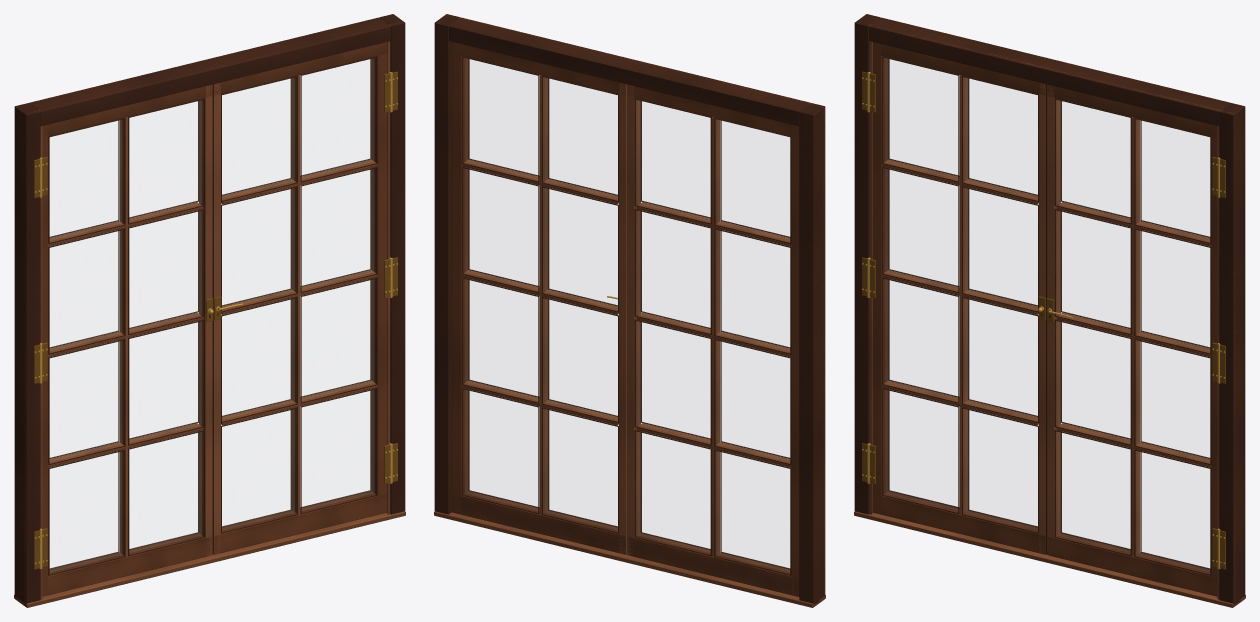
File: asset.glb
3 views of the same model, side by side, from view 1: azimuth 30°, elevation 25°; view 2: azimuth 150°, elevation 25°; view 3: azimuth 330°, elevation 25° (orthographic).
Parts seen in each view (by area): view 1: MaterialBatch_French_door_clear_household_glazing, MaterialBatch_French_door_oak_end-grain_and_reveals, MaterialBatch_French_door_oak_board_variation, MaterialBatch_French_door_quarter-sawn_oak, MaterialBatch_French_door_warm_aged_brass_hardware, MaterialBatch_French_door_bright_brass_highlights; view 2: MaterialBatch_French_door_clear_household_glazing, MaterialBatch_French_door_oak_end-grain_and_reveals, MaterialBatch_French_door_oak_board_variation, MaterialBatch_French_door_quarter-sawn_oak; view 3: MaterialBatch_French_door_clear_household_glazing, MaterialBatch_French_door_oak_end-grain_and_reveals, MaterialBatch_French_door_oak_board_variation, MaterialBatch_French_door_quarter-sawn_oak, MaterialBatch_French_door_warm_aged_brass_hardware, MaterialBatch_French_door_bright_brass_highlights.
Part boxes in pixels (<box>): MaterialBatch_French_door_clear_household_glazing: <box>50,59,373,571</box>; MaterialBatch_French_door_oak_end-grain_and_reveals: <box>14,14,405,606</box>; MaterialBatch_French_door_oak_board_variation: <box>14,41,405,607</box>; MaterialBatch_French_door_quarter-sawn_oak: <box>24,21,402,602</box>; MaterialBatch_French_door_warm_aged_brass_hardware: <box>34,71,397,569</box>; MaterialBatch_French_door_bright_brass_highlights: <box>34,72,397,569</box>; MaterialBatch_French_door_clear_household_glazing: <box>466,59,789,571</box>; MaterialBatch_French_door_oak_end-grain_and_reveals: <box>434,14,825,606</box>; MaterialBatch_French_door_oak_board_variation: <box>434,75,825,607</box>; MaterialBatch_French_door_quarter-sawn_oak: <box>446,14,824,598</box>; MaterialBatch_French_door_clear_household_glazing: <box>886,59,1209,571</box>; MaterialBatch_French_door_oak_end-grain_and_reveals: <box>854,14,1245,606</box>; MaterialBatch_French_door_oak_board_variation: <box>854,41,1245,607</box>; MaterialBatch_French_door_quarter-sawn_oak: <box>860,22,1235,604</box>; MaterialBatch_French_door_warm_aged_brass_hardware: <box>862,71,1225,569</box>; MaterialBatch_French_door_bright_brass_highlights: <box>862,72,1225,569</box>.
Size of the model in its own units: 66 by 82 by 4.
6 materials, 6 textured.
